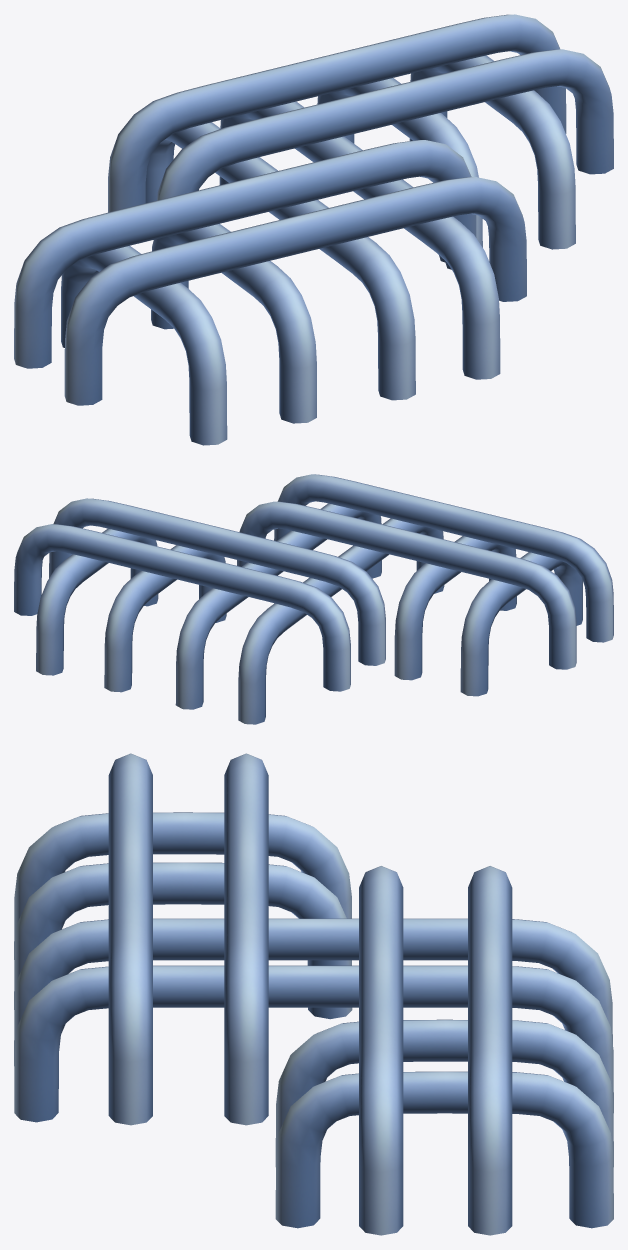
File: Lock_ZN.fbx
3 renders of one model, top to bottom at view 1: azimuth 30°, elevation 25°; view 2: azimuth 150°, elevation 25°; view 3: azimuth 270°, elevation 25°, orthographic. The views are drawn at different scales.
Visible parts, largest first — view 1: Lock_ZN; view 2: Lock_ZN; view 3: Lock_ZN.
Part boxes in pixels (<box>): Lock_ZN: <box>14,14,613,445</box>; Lock_ZN: <box>14,474,613,724</box>; Lock_ZN: <box>14,753,613,1235</box>.
Size of the model in its own units: 3.3 by 0.7657 by 2.29.
